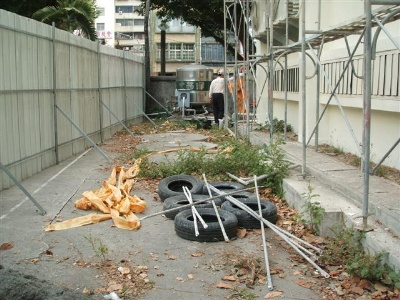tire: (174, 207, 238, 242), (220, 197, 277, 229), (162, 194, 222, 217), (158, 174, 203, 202)
water_tower: (175, 62, 213, 109)
